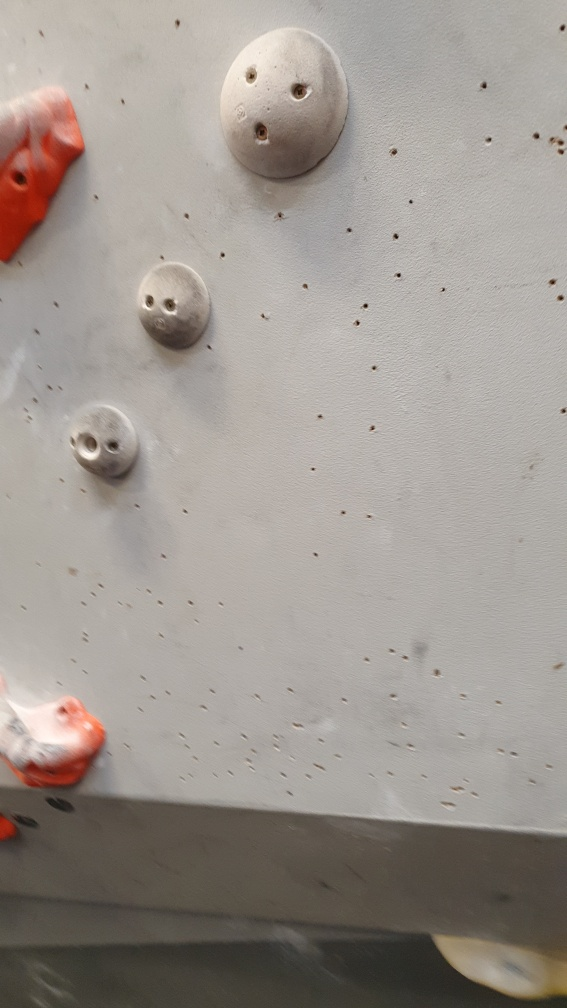Hand Start: (39, 789, 80, 818), (10, 806, 47, 831)
Jug: (1, 78, 89, 268), (1, 676, 114, 796)
Sloper: (217, 22, 352, 184), (134, 259, 216, 352), (65, 400, 141, 481)
